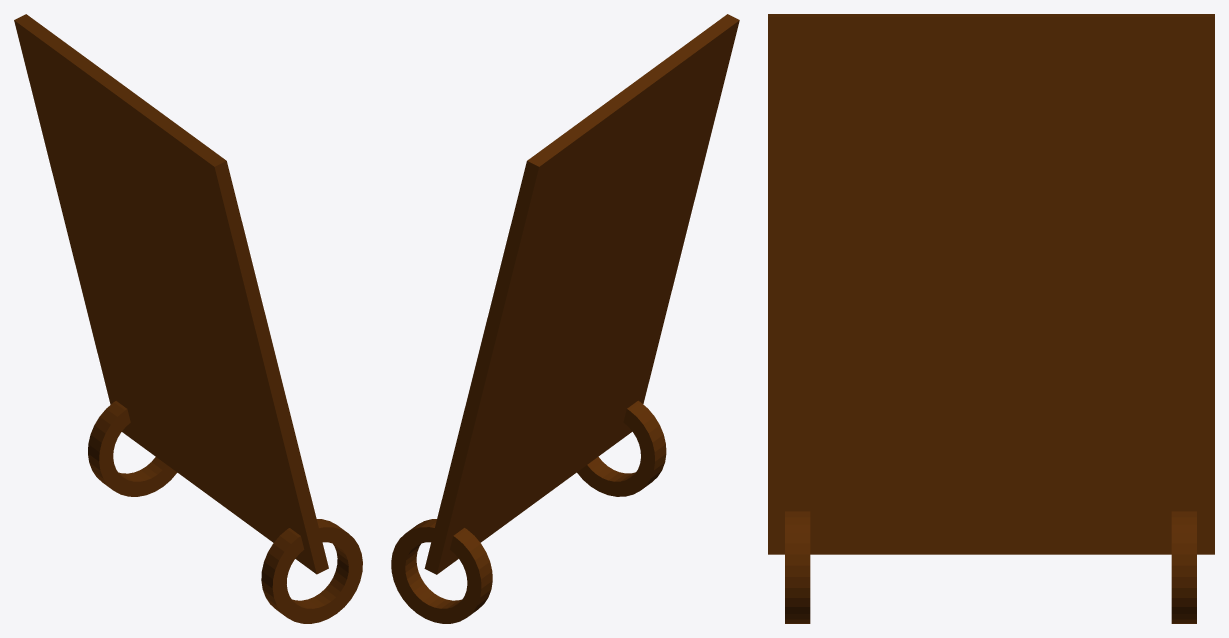
File: rotating_platform.fbx
3 views of the same model, side by side, from view 1: azimuth 30°, elevation 25°; view 2: azimuth 150°, elevation 25°; view 3: azimuth 270°, elevation 25° (orthographic). The views are drawn at different scales.
Parts seen in each view (by area): view 1: Cube.010; view 2: Cube.010; view 3: Cube.010.
Boxes of the visible parts, left/top/right/bottom form: Cube.010: left=14, top=14, right=362, bottom=623; Cube.010: left=391, top=14, right=739, bottom=623; Cube.010: left=768, top=14, right=1214, bottom=623.
Bounding box in the file's own units: 187 × 564 × 417.
